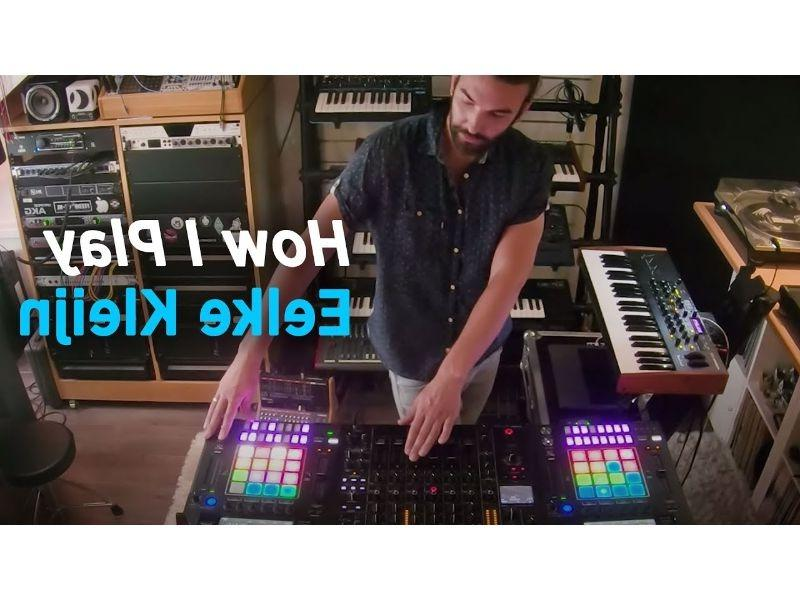synthesizer: (569, 226, 741, 409), (285, 83, 413, 110)
